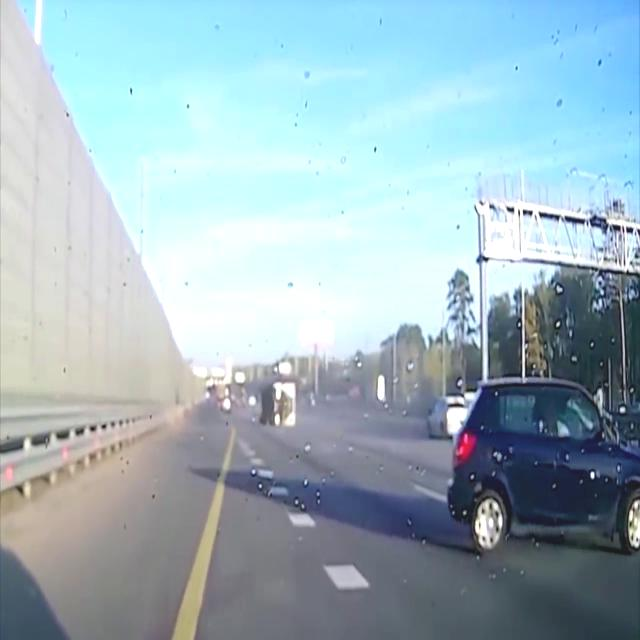accident: (257, 380, 295, 428)
